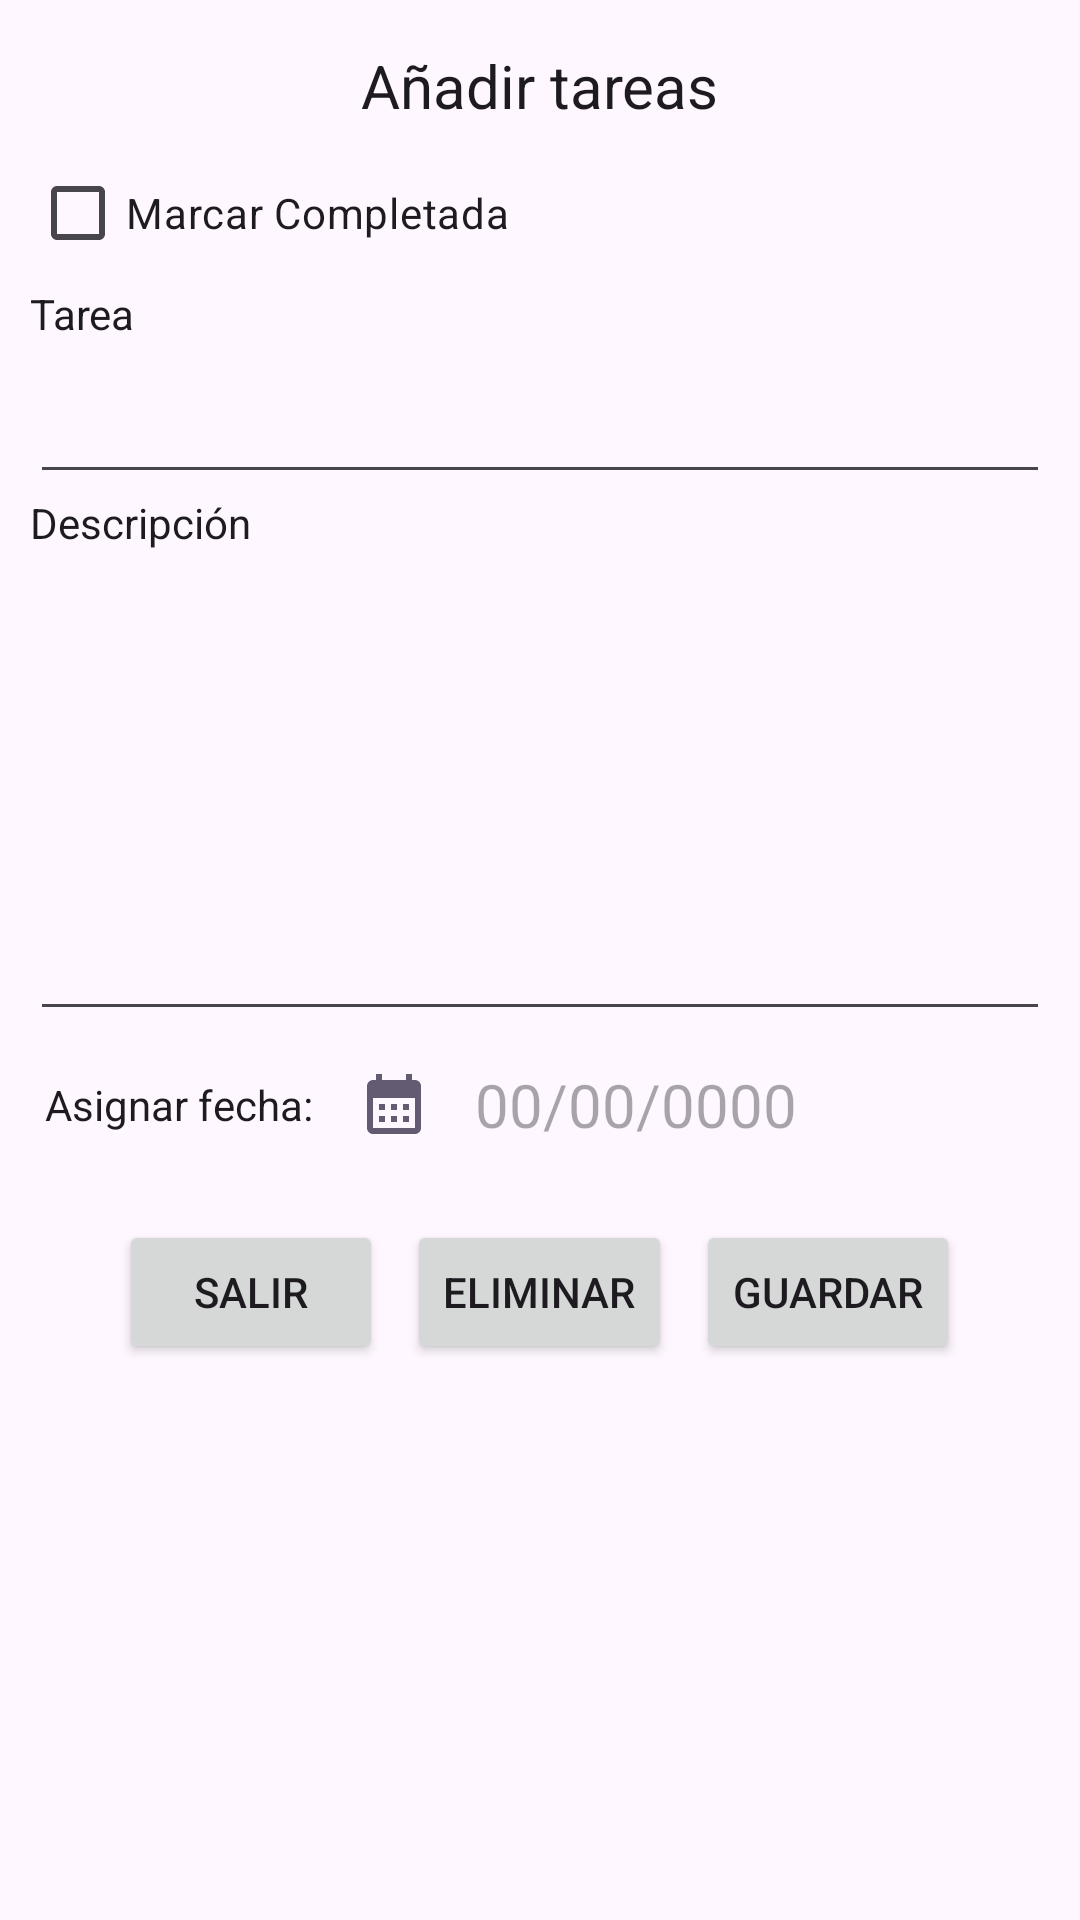

Locate icon controls on the screen. Image size 1080 x 1920, boxes as {"x1": x1, "y1": y1, "x2": x2, "y2": y2}.
calendario: {"x1": 367, "y1": 1074, "x2": 421, "y2": 1134}
